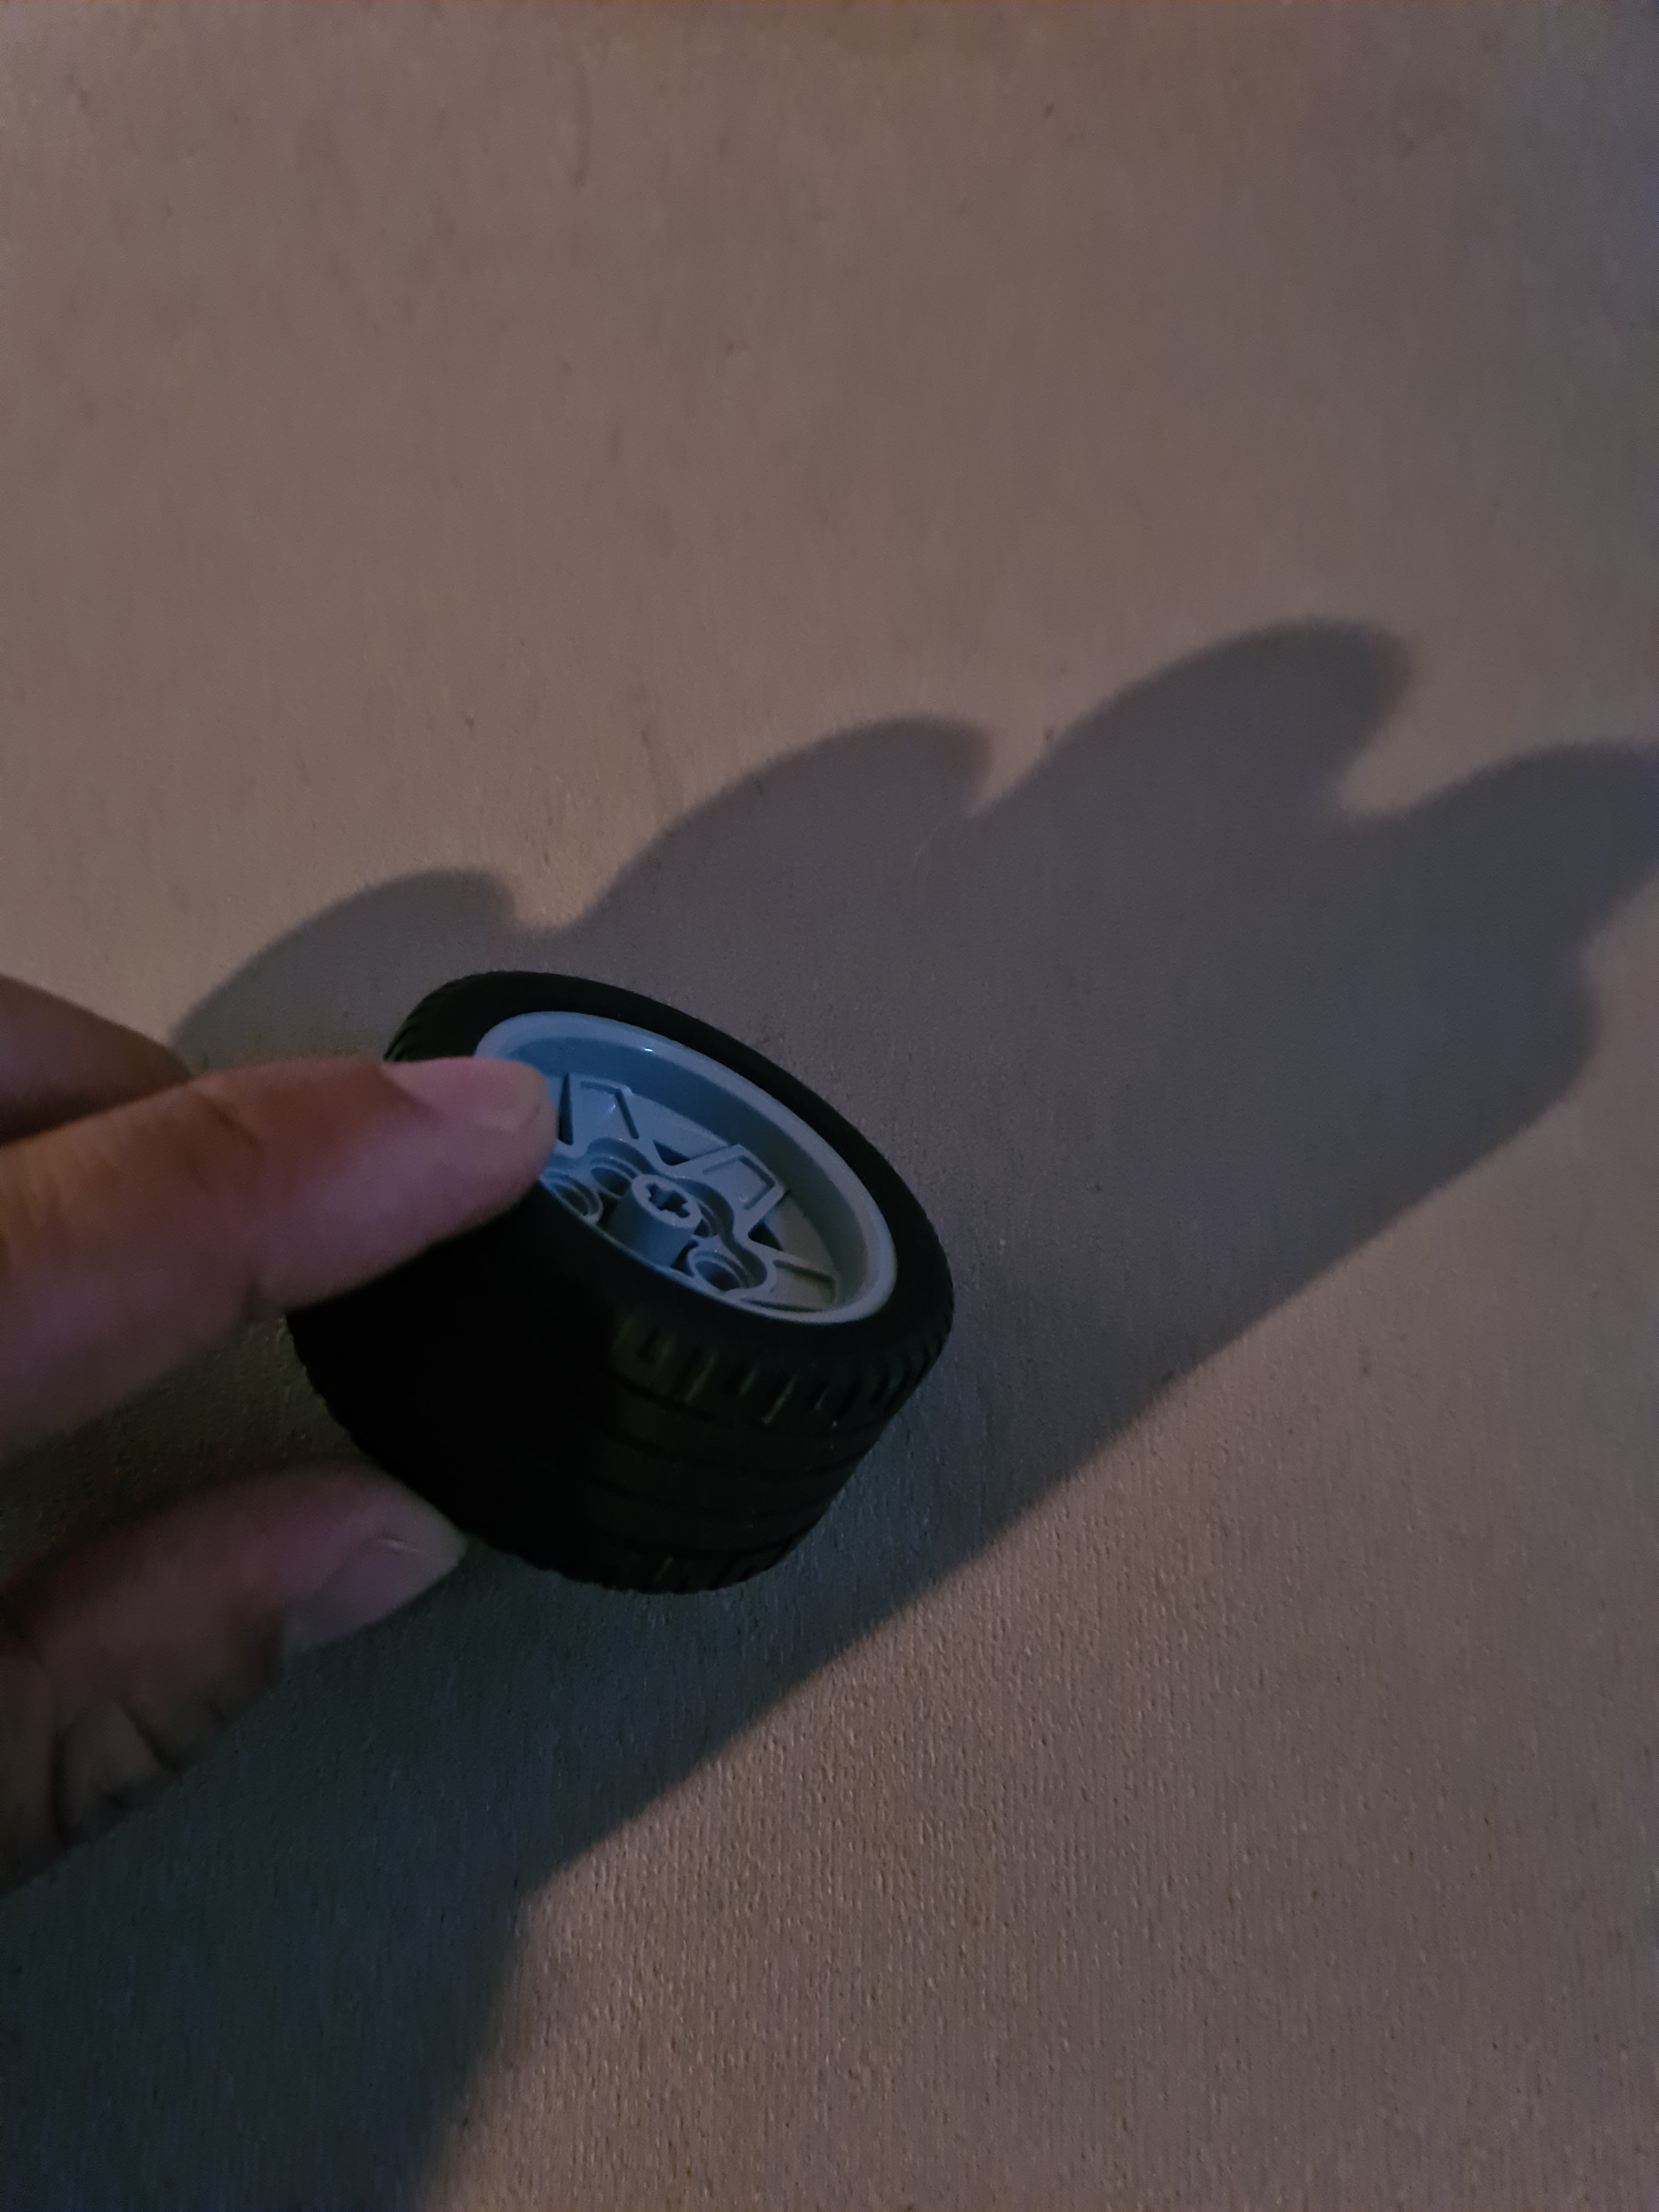Rad: (274, 935, 985, 1620)
